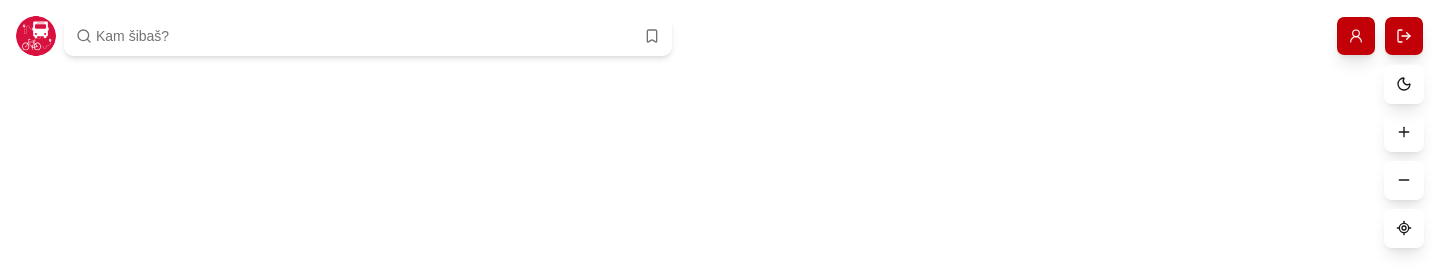
Test case: integracijski MainAppControlOverlay › Places predlog brez lokacije prikaze napako lokacije
The image size is (1440, 273).
Focus the field labelled "Kam šibaš?" at (352, 36), box [64,16,640,56]
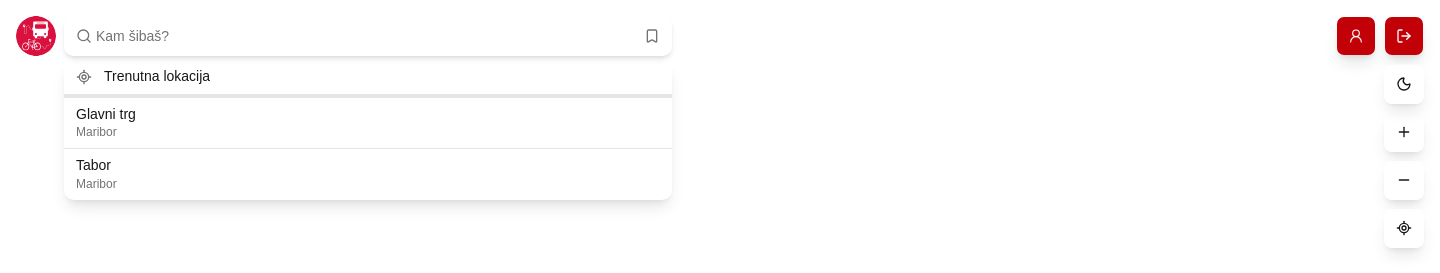
Press the mouse on the text "Tabor" at (94, 165), box [76,157,111,173]
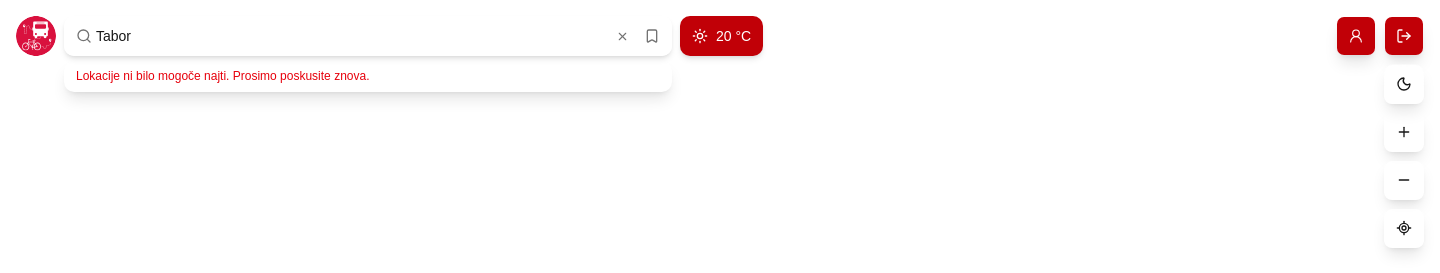
Result: the text "Lokacije ni bilo mogoče najti. Prosimo poskusite znova." is shown at [64,60,672,92]
